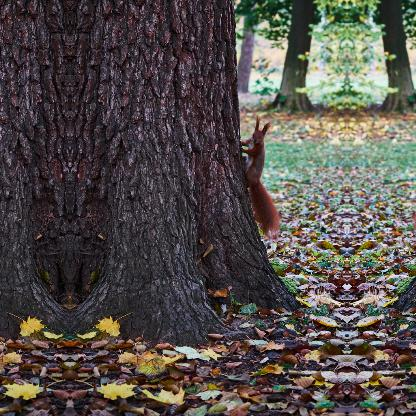Squirrel: (237, 113, 283, 235)
